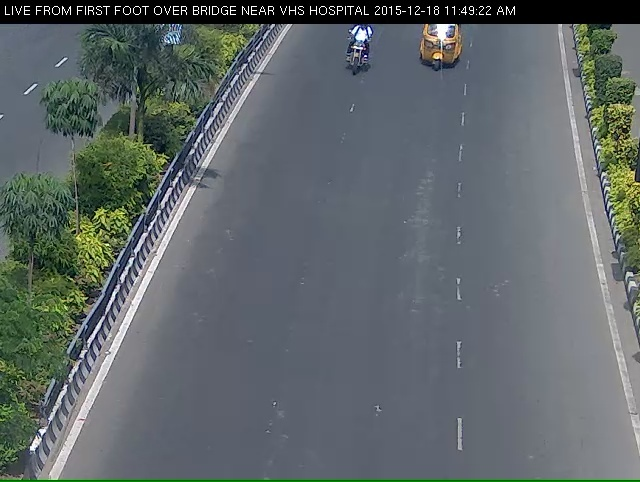Auto: (407, 22, 470, 90)
Person: (330, 30, 371, 98)
